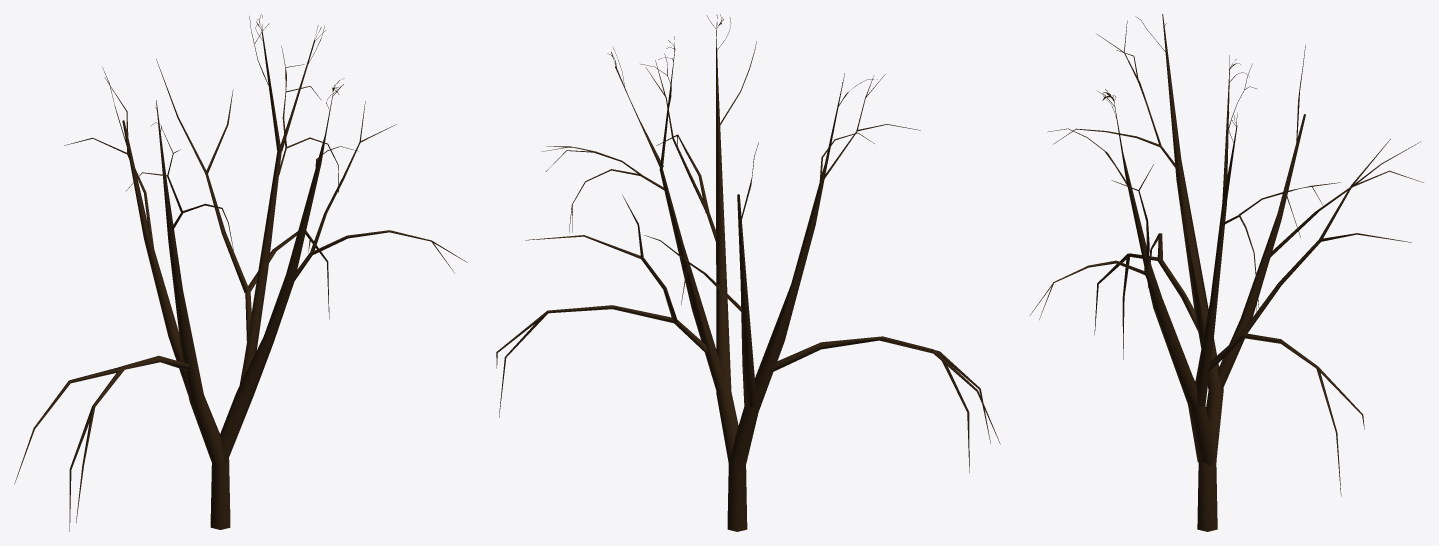
Rendered from Tree.fbx.
3 renders of one model, left to right at view 1: azimuth 30°, elevation 25°; view 2: azimuth 150°, elevation 25°; view 3: azimuth 270°, elevation 25°, orthographic. The views are drawn at different scales.
Visible parts, largest first — view 1: tree; view 2: tree; view 3: tree.
Boxes of the visible parts, left/top/right/bottom form: tree: left=14, top=14, right=467, bottom=531; tree: left=496, top=14, right=1000, bottom=531; tree: left=1030, top=14, right=1423, bottom=531.
Bounding box in the file's own units: 4.11 × 4.69 × 3.37.
